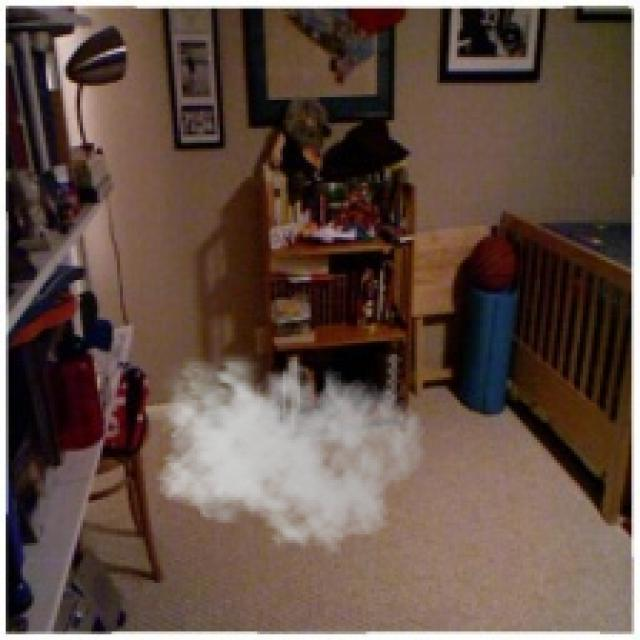Smoke: (148, 343, 426, 554)
